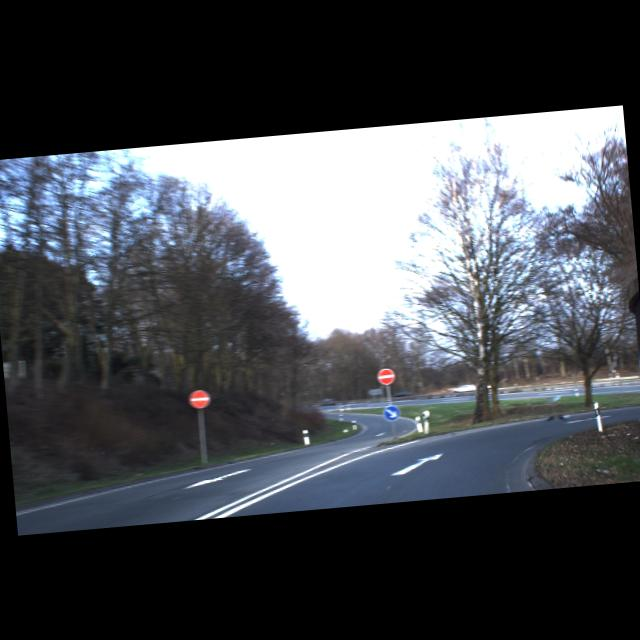mandatory: (382, 404, 400, 422)
other: (188, 388, 210, 409), (376, 367, 394, 386)
